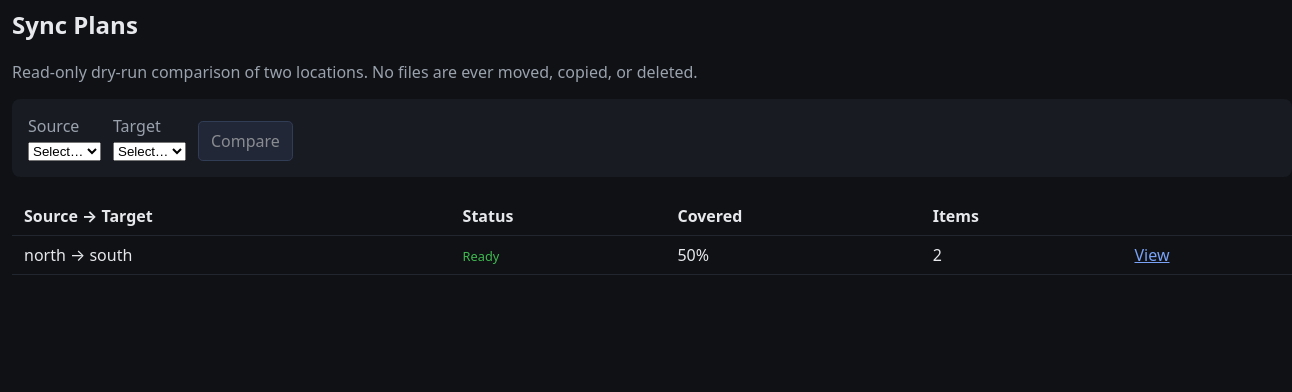
lists plans and expands items with conflict/copy
The width and height of the screenshot is (1292, 392).
Expected: the text "north → south" is shown, [12, 236, 451, 275]
Expected: the text "50%" is shown, [666, 236, 921, 275]
Click the button "View" at (1152, 255), box [1134, 244, 1170, 266]
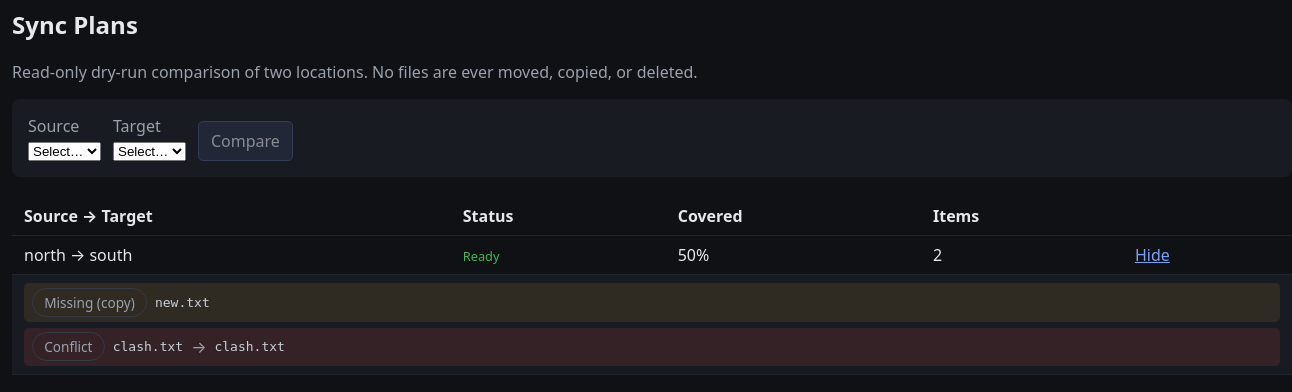
Now the text "new.txt" is shown, box [155, 295, 210, 310]
Now the 1st text "clash.txt" is shown, box [113, 339, 183, 354]
Now the text "Conflict" is shown, box [32, 332, 105, 361]
